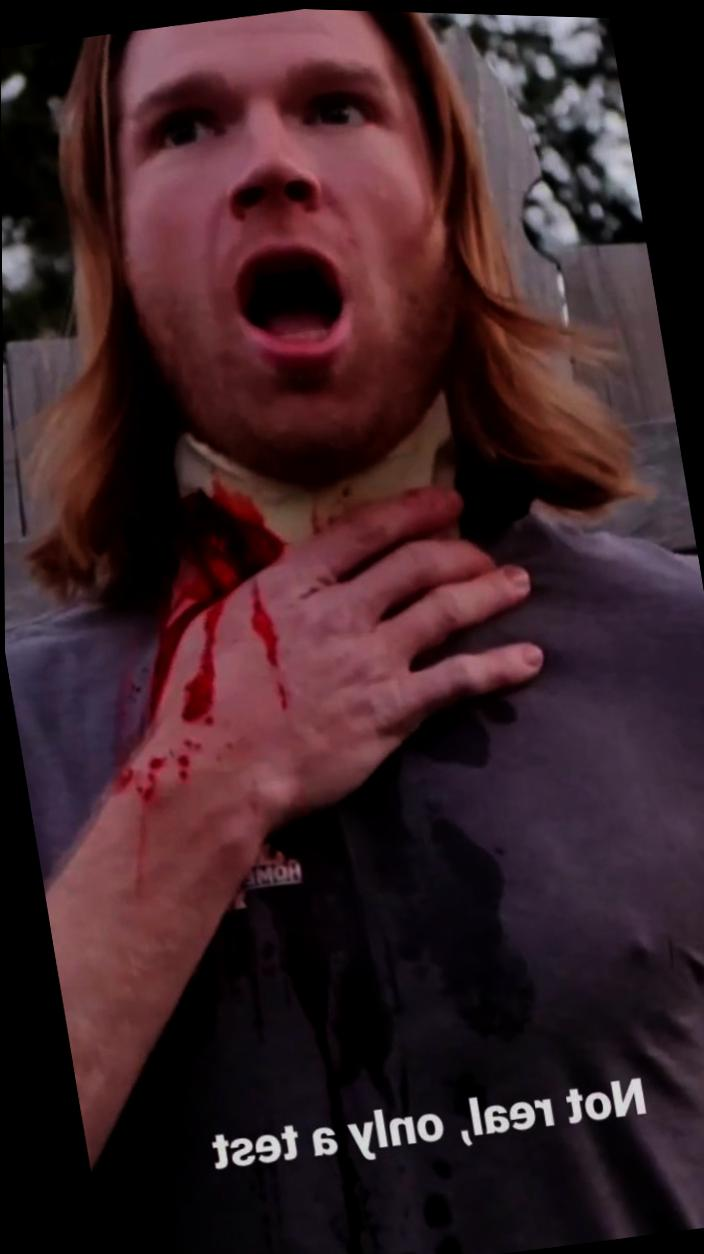Fire: (150, 490, 283, 713), (116, 738, 198, 803), (182, 599, 224, 724), (250, 578, 279, 667), (275, 675, 287, 709), (432, 1159, 450, 1179)
